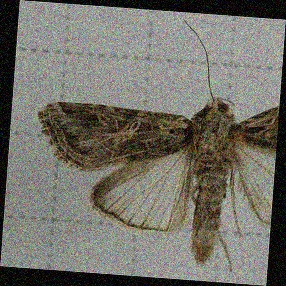Spodoptera litura: (34, 17, 277, 267)
